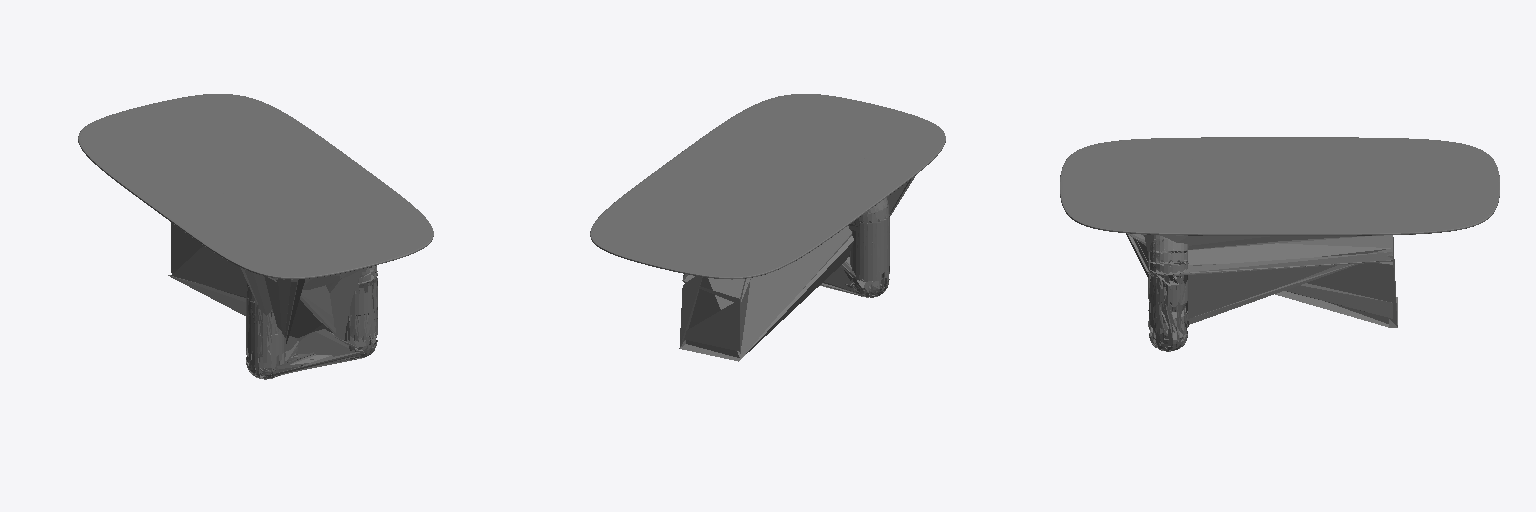
Rendered from Table.obj.
3 renders of one model, left to right at view 1: azimuth 30°, elevation 25°; view 2: azimuth 150°, elevation 25°; view 3: azimuth 270°, elevation 25°, orthographic.
Visible parts, largest first — view 1: Line003, Cylinder002; view 2: Line003, Cylinder002; view 3: Line003, Cylinder002.
Part boxes in pixels (bbox=[...]): Line003: bbox=[78, 94, 432, 379]; Cylinder002: bbox=[78, 94, 433, 279]; Line003: bbox=[591, 95, 942, 361]; Cylinder002: bbox=[590, 94, 945, 279]; Line003: bbox=[1060, 138, 1499, 351]; Cylinder002: bbox=[1060, 137, 1499, 235].
Bounding box in the file's own units: 1144 × 774 × 2194.